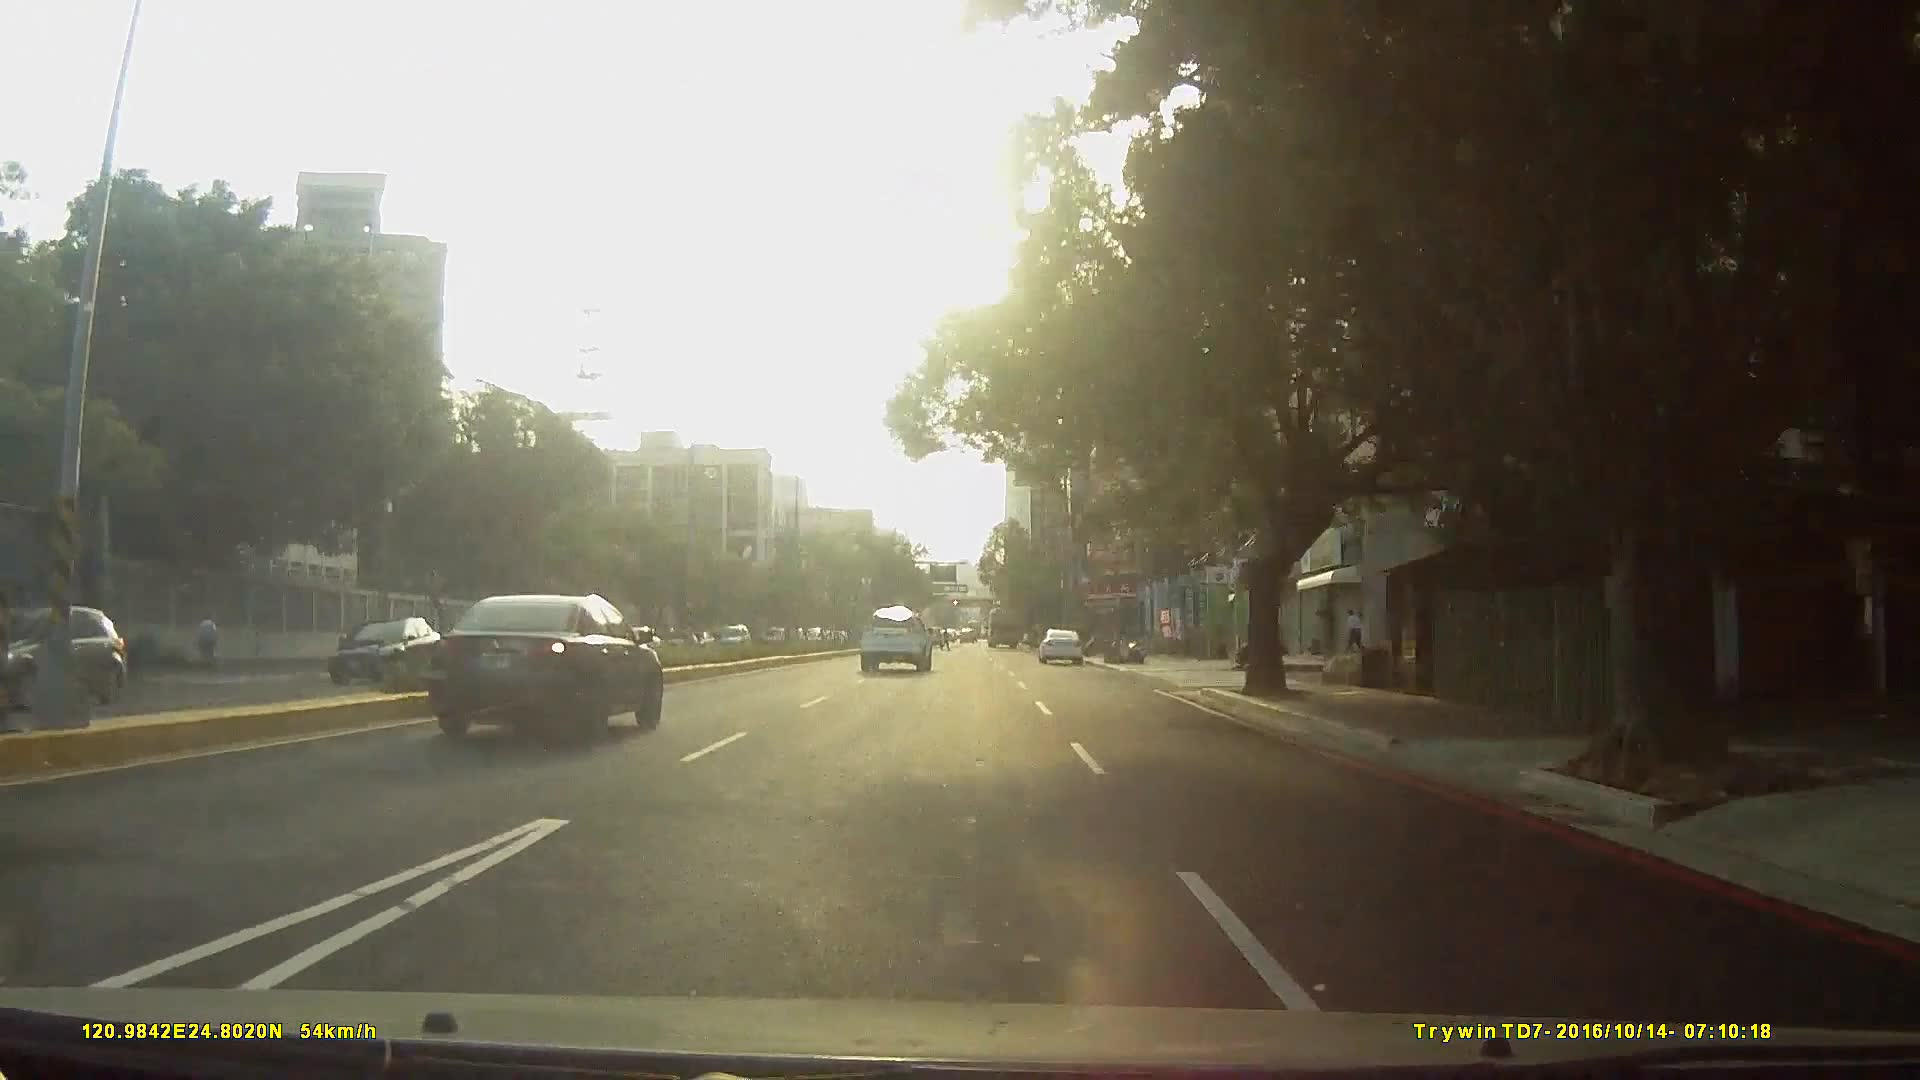pedestrian: (192, 612, 221, 670), (1345, 610, 1365, 656)
vehicle: (429, 588, 666, 744), (1, 603, 152, 719), (318, 615, 455, 686), (858, 600, 935, 671), (1036, 622, 1084, 663), (984, 601, 1023, 646)
